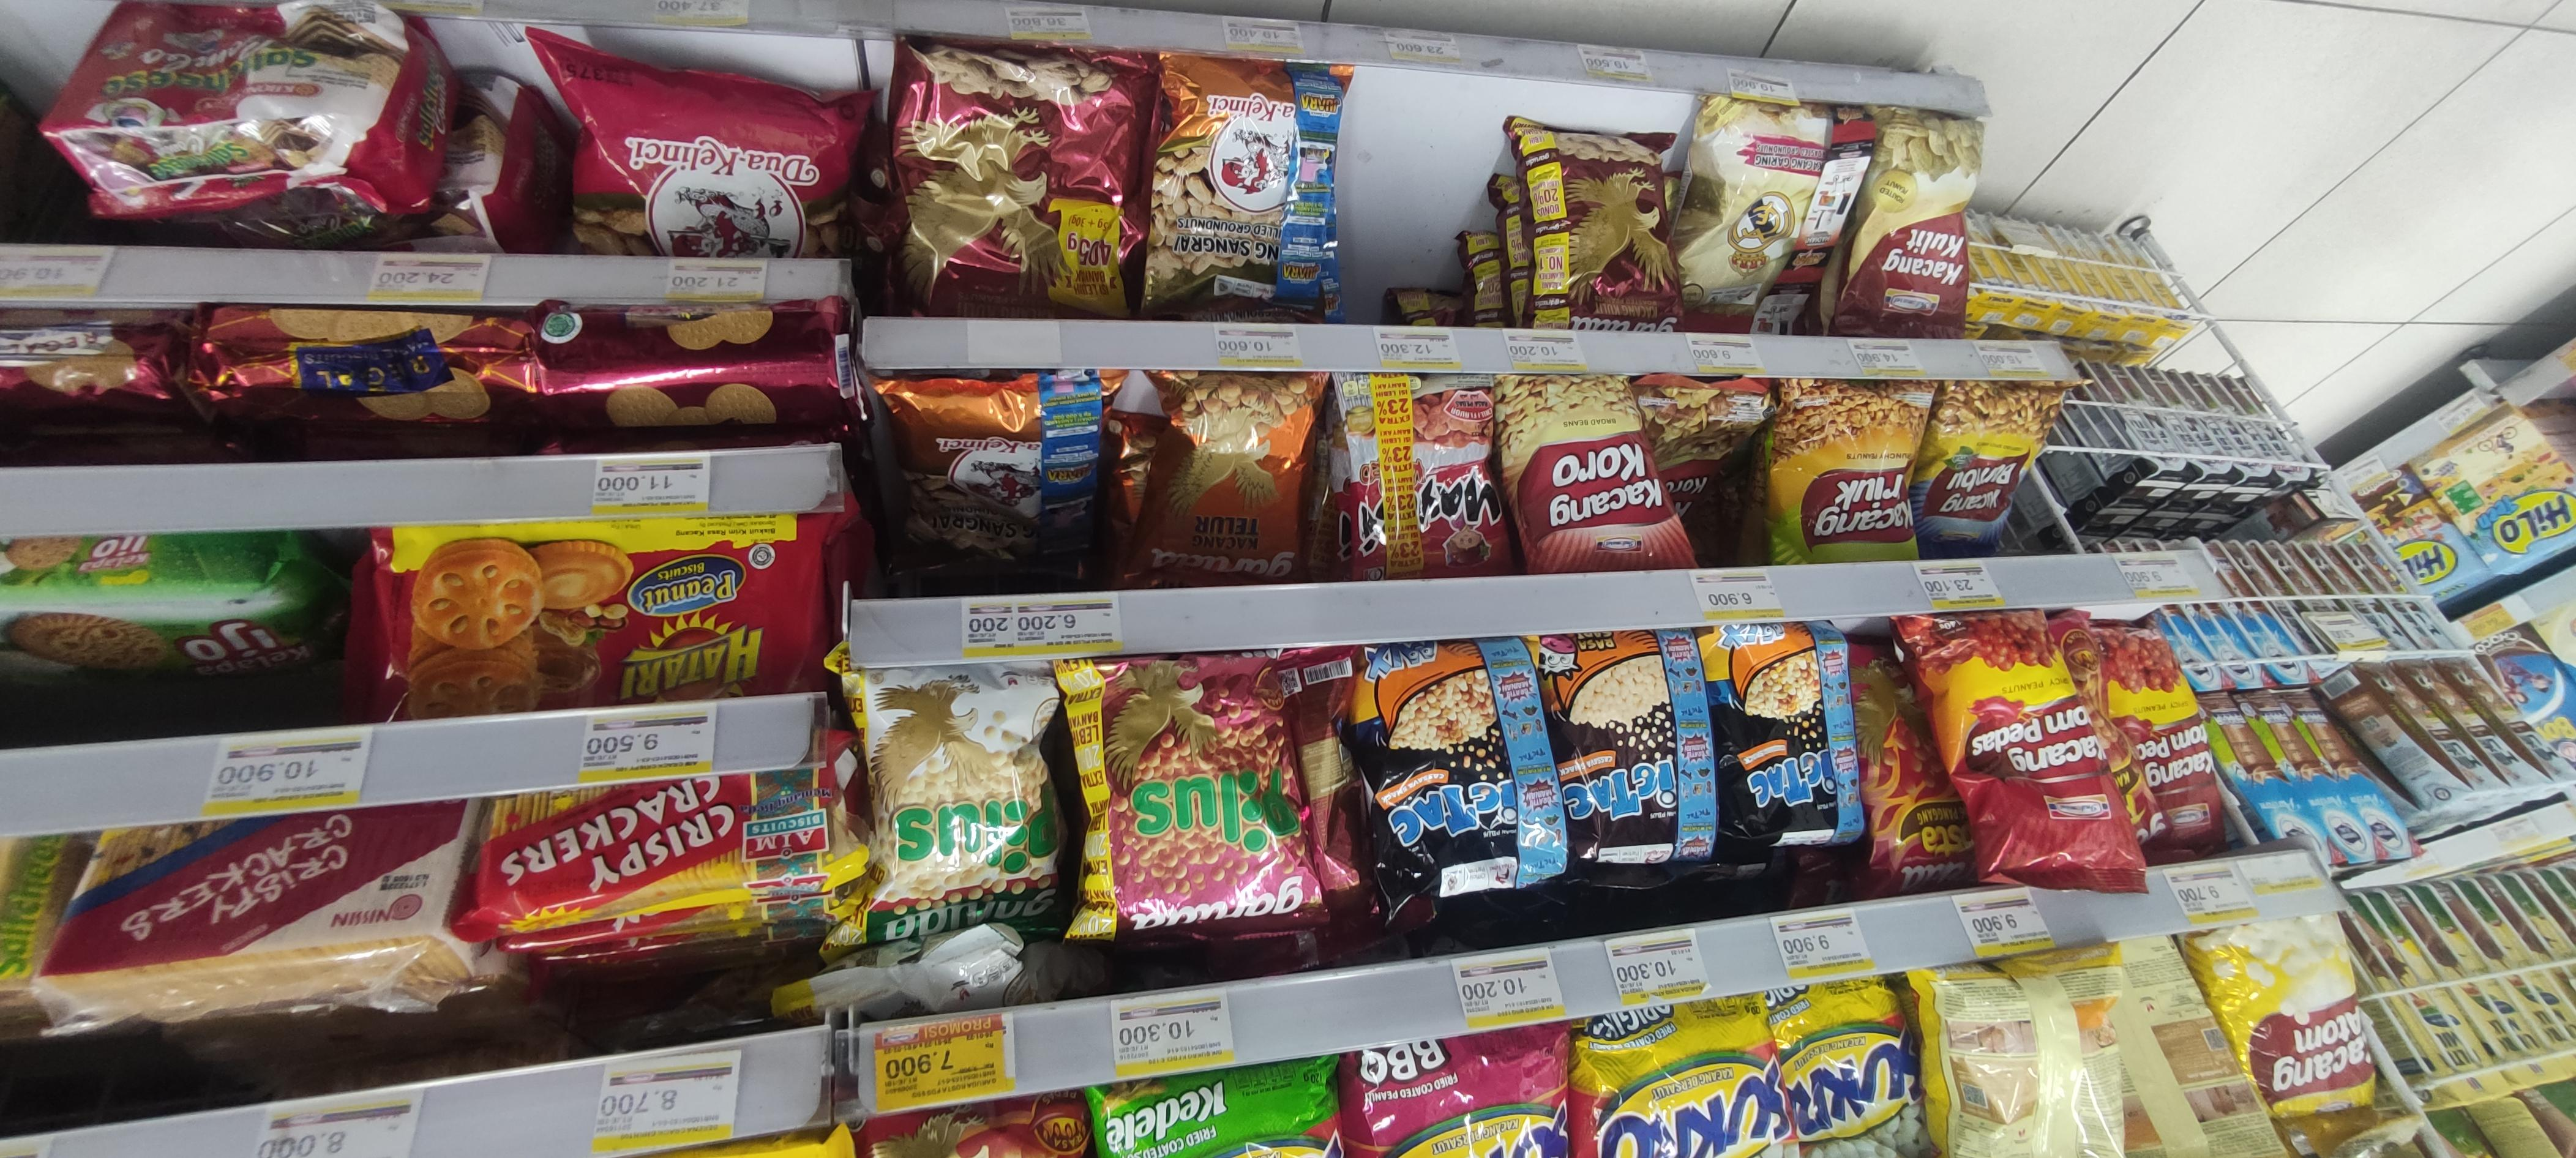90101111702100: (1147, 375, 1308, 595)
90101112103100: (1508, 122, 1677, 337)
90101151201100: (1056, 655, 1318, 940)
90101151604100: (844, 664, 1061, 956)
Garuda Kacang Kulit 405 gram: (899, 33, 1137, 315)
KacangKoroIndomaret: (1497, 379, 1682, 563)
KacangSangraiDuaKelinci: (1150, 46, 1349, 314)
MayasiPedas: (1336, 373, 1485, 572)
TicTacMix: (1354, 641, 1556, 912), (1717, 619, 1855, 874)
TicTacSapiPanggang: (1546, 634, 1712, 894)
